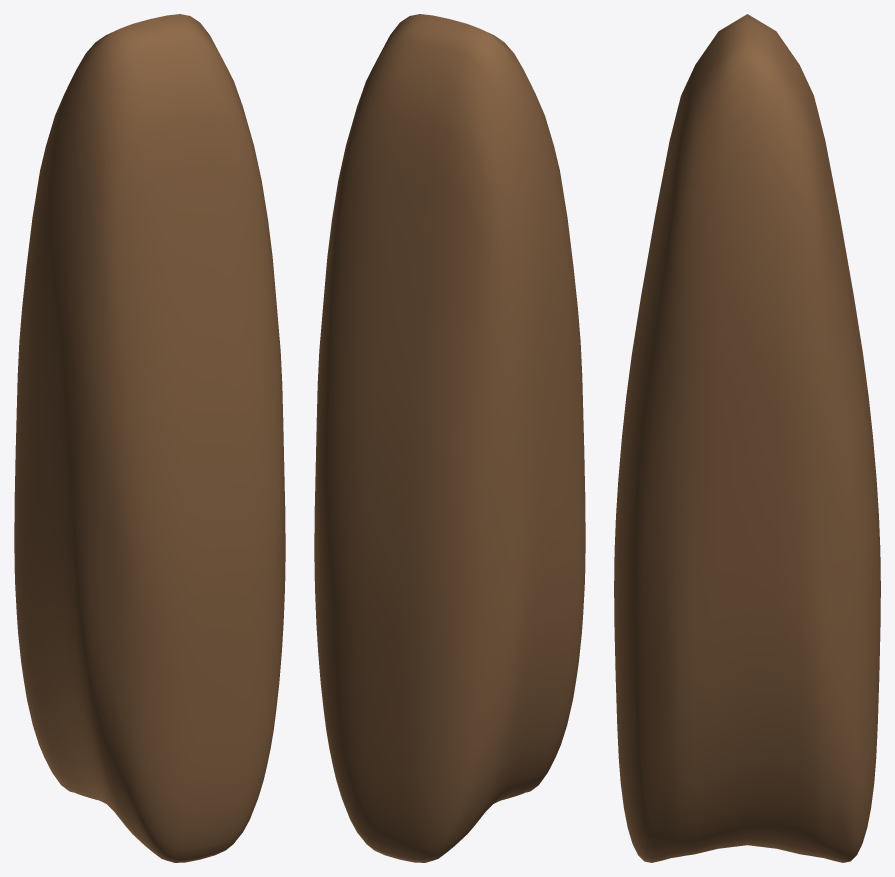
The model's file is acorn_inside.fbx.
3 views of the same model, side by side, from view 1: azimuth 30°, elevation 25°; view 2: azimuth 150°, elevation 25°; view 3: azimuth 270°, elevation 25° (orthographic). The views are drawn at different scales.
Visible parts, largest first — view 1: Roundcube.002; view 2: Roundcube.002; view 3: Roundcube.002.
Part boxes in pixels (x1=…): Roundcube.002: x1=14, y1=14, x2=285, y2=862; Roundcube.002: x1=314, y1=14, x2=585, y2=862; Roundcube.002: x1=614, y1=14, x2=880, y2=862.
Bounding box in the file's own units: 95.19 × 352 × 103.
